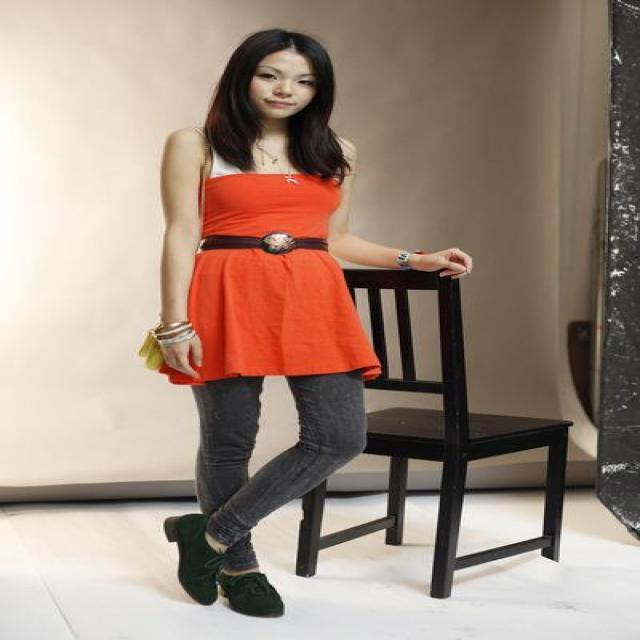dress: (158, 166, 364, 388)
pants: (173, 366, 381, 575)
shoe: (138, 502, 283, 616)
